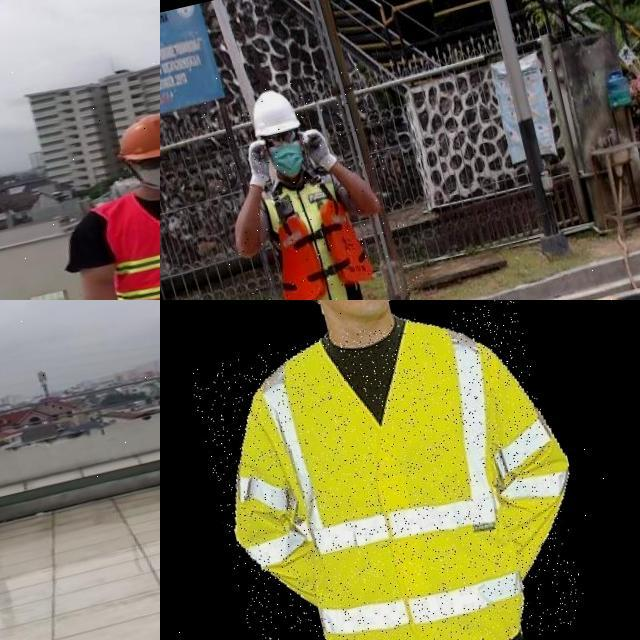helmet: (246, 84, 304, 140), (109, 101, 160, 164)
vest: (188, 300, 590, 640), (254, 164, 381, 300), (89, 167, 160, 300)
